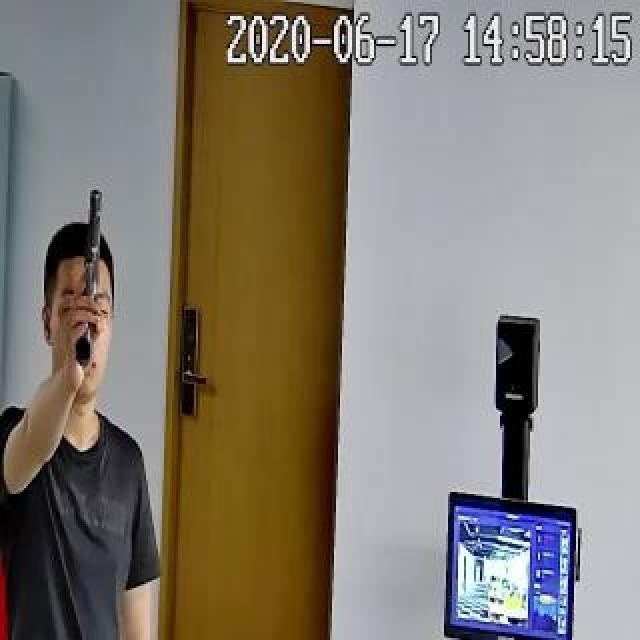Guns: (49, 177, 118, 378)
